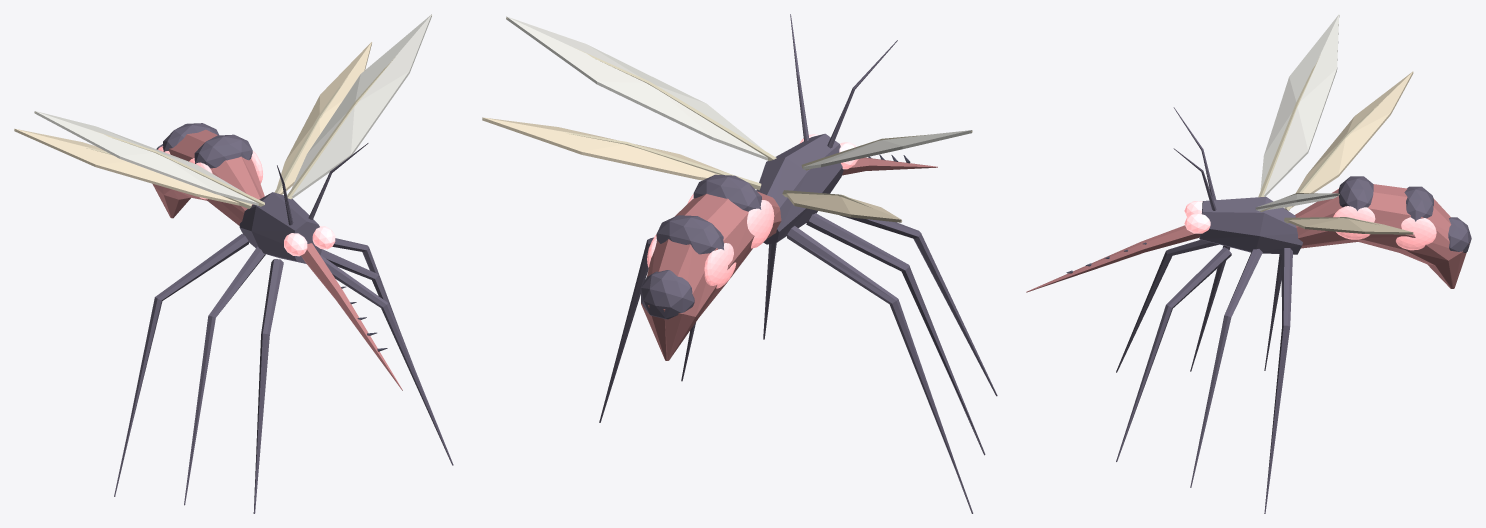
File: flying-needle-stalker-v1.glb
3 views of the same model, side by side, from view 1: azimuth 30°, elevation 25°; view 2: azimuth 150°, elevation 25°; view 3: azimuth 270°, elevation 25° (orthographic). The views are drawn at different scales.
Visible parts, largest first — view 1: forewing_02, forewing, thorax, blood_abdomen, hindwing, hindwing_02, stilt_leg_03, stilt_leg, stilt_leg_02, stilt_leg_04, needle_proboscis, armored_abdomen_plate (+6 smaller); view 2: blood_abdomen, forewing_02, thorax, hindwing_02, stilt_leg_03, stilt_leg_02, armored_abdomen_plate_03, armored_abdomen_plate_02, hindwing, stilt_leg, forewing, armored_abdomen_plate (+6 smaller); view 3: forewing, blood_abdomen, thorax, hindwing, stilt_leg_06, stilt_leg_04, needle_proboscis, stilt_leg_05, hindwing_02, stilt_leg, armored_abdomen_plate, glowing_blood_sac_04 (+6 smaller).
Boxes of the visible parts, x1,y1,x2,y2 form: forewing_02: (291,14,431,198); forewing: (34,111,258,205); thorax: (239,192,321,263); blood_abdomen: (152,129,264,225); hindwing: (14,128,240,205); hindwing_02: (277,42,371,194); stilt_leg_03: (114,234,248,496); stilt_leg: (253,259,283,513); stilt_leg_02: (184,246,265,505); stilt_leg_04: (320,255,453,465); needle_proboscis: (301,243,402,390); armored_abdomen_plate: (194,134,252,168); blood_abdomen: (641,191,781,360); forewing_02: (506,16,767,160); thorax: (756,133,843,244); hindwing_02: (482,117,728,180); stilt_leg_03: (787,226,973,513); stilt_leg_02: (806,213,985,455); armored_abdomen_plate_03: (641,270,694,319); armored_abdomen_plate_02: (656,215,723,254); hindwing: (786,193,901,222); stilt_leg: (840,215,997,396); forewing: (803,130,972,169); armored_abdomen_plate: (693,174,761,211); forewing: (1260,14,1339,196); blood_abdomen: (1295,184,1469,288); thorax: (1199,196,1302,254); hindwing: (1291,71,1413,207); stilt_leg_06: (1264,248,1292,513); stilt_leg_04: (1116,247,1231,461); needle_proboscis: (1026,225,1200,292); stilt_leg_05: (1190,249,1262,487); hindwing_02: (1288,218,1413,234); stilt_leg: (1116,239,1218,372); armored_abdomen_plate: (1338,176,1373,210); glowing_blood_sac_04: (1396,217,1436,250).
Bounding box in the file's own units: 4 × 3.52 × 4.2.
